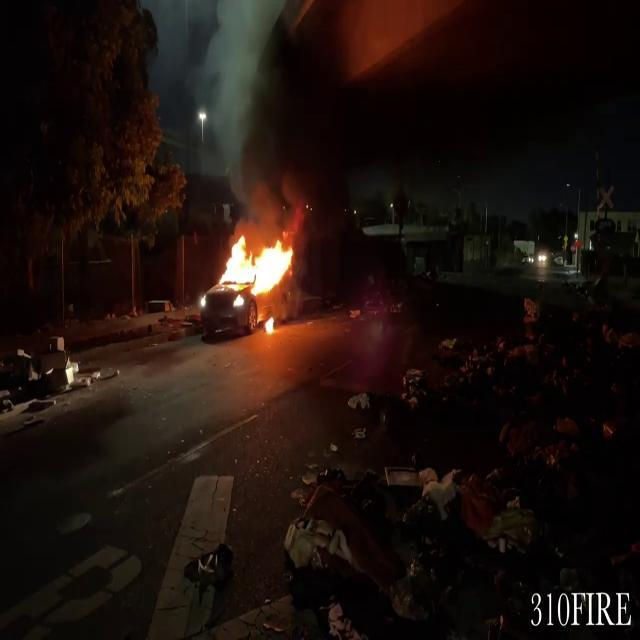Fire: (210, 228, 299, 320)
Smoke: (222, 0, 394, 234)
